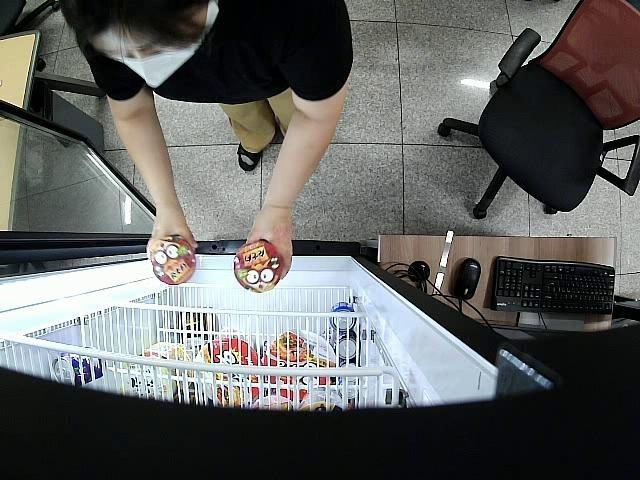06_nuguri_S: (232, 239, 284, 294), (148, 238, 197, 284)
